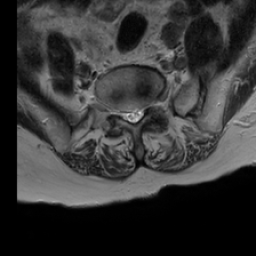CCS_severe_stenosis: (131, 101, 138, 130)
LFS_severe_stenosis: (145, 95, 151, 117)
LLS_normal: (138, 101, 145, 125)
RFS_stenosis: (115, 100, 123, 125)
RLS_normal: (123, 102, 131, 128)
